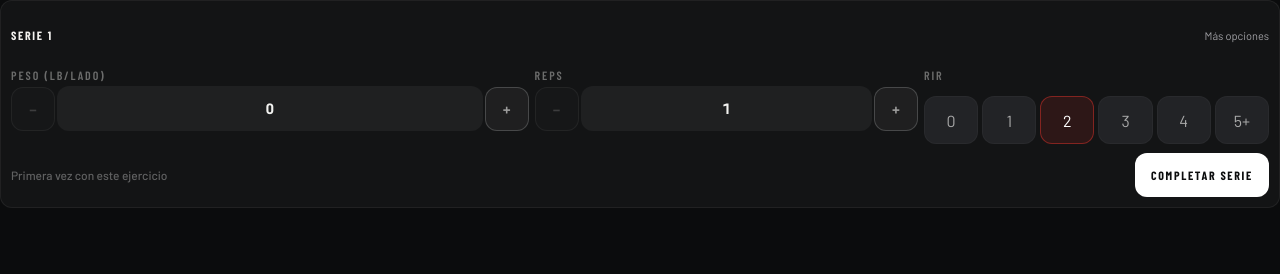
Test case: si falla, conserva lo tecleado, lo dice y ofrece «Reintentar»
What coordinates should you click on to do the following:
click the 1st button "+"
I would click on:
 (507, 108)
Its box is left=485, top=86, right=529, bottom=130.
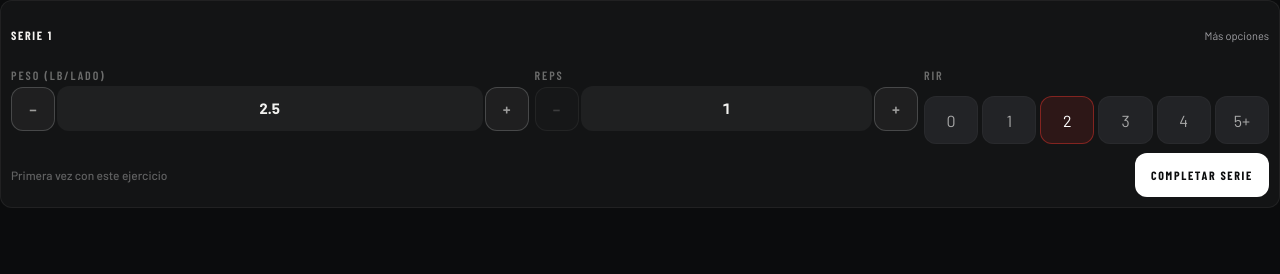
What coordinates should you click on to do the following:
click the button with aria-label "Guardar la serie 1 de Press inclinado bajo (15°) en Smith"
I would click on:
 (1202, 175)
Its box is left=1135, top=153, right=1269, bottom=197.
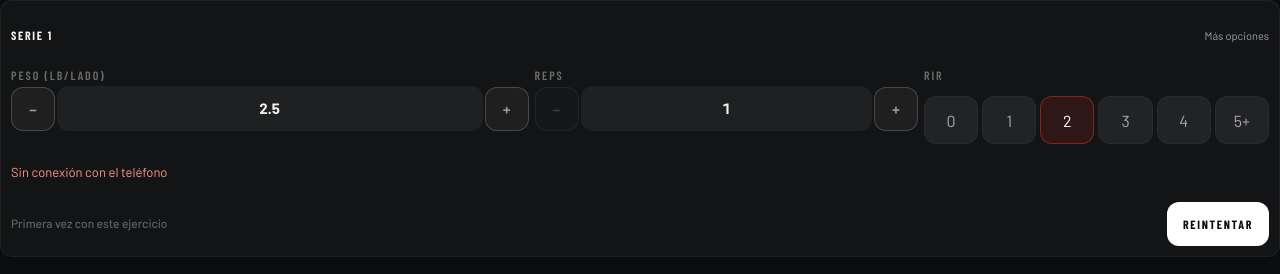
Now the message reads "Sin conexión con el teléfono", box left=11, top=164, right=167, bottom=180
Now the button with aria-label "Guardar la serie 1 de Press inclinado bajo (15°) en Smith" reads "Reintentar"
What coordinates should you click on to do the following:
click the button with aria-label "Guardar la serie 1 de Press inclinado bajo (15°) en Smith"
I would click on:
 (1218, 224)
Its box is left=1167, top=202, right=1269, bottom=246.
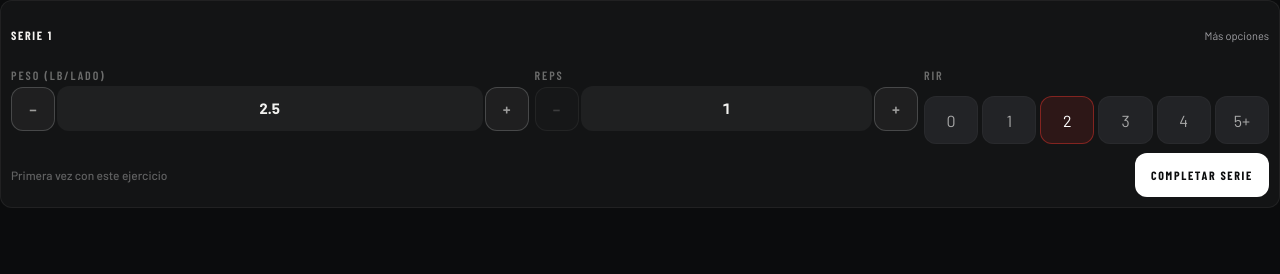
Now the message "Sin conexión con el teléfono" is gone
